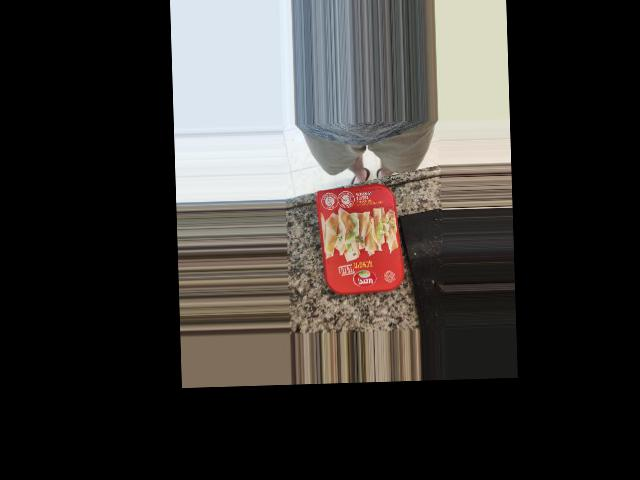cheese: (325, 160, 416, 273)
